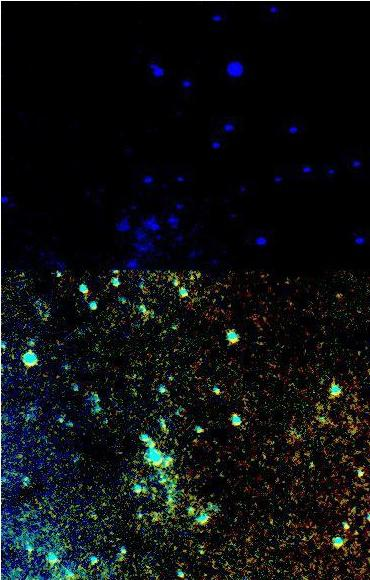star: (341, 518, 370, 548)
